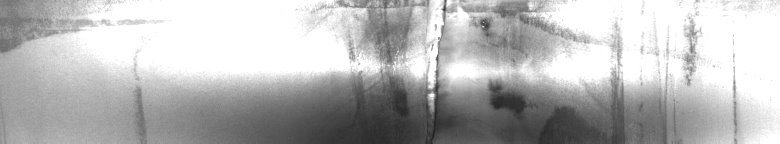ke: (325, 4, 737, 136)
